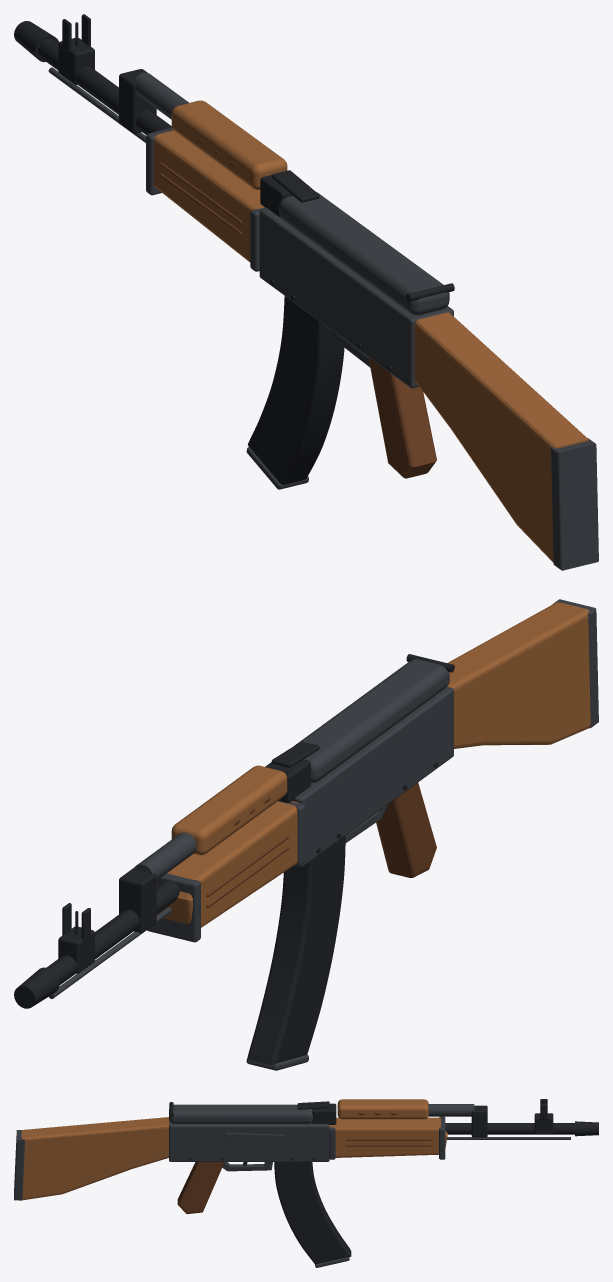
3 views of the same model, one above another, from view 1: azimuth 30°, elevation 25°; view 2: azimuth 150°, elevation 25°; view 3: azimuth 270°, elevation 25° (orthographic). The views are drawn at different scales.
Parts seen in each view (by area): view 1: stock, receiver, magazine, dust_cover, handguard_lower, butt_plate, grip, handguard_upper, barrel, gas_block, gas_tube, front_sight_base (+3 smaller); view 2: stock, magazine, receiver, handguard_lower, dust_cover, handguard_upper, grip, barrel, gas_block, handguard_band, gas_tube, muzzle_brake (+5 smaller); view 3: stock, receiver, magazine, handguard_lower, dust_cover, handguard_upper, grip, barrel, butt_plate, gas_tube, gas_block, handguard_groove (×2) (+7 smaller).
Part boxes in pixels (x1=…): stock: x1=414, y1=312, x2=589, y2=562; receiver: x1=259, y1=208, x2=453, y2=388; magazine: x1=248, y1=296, x2=344, y2=484; dust_cover: x1=279, y1=192, x2=449, y2=315; handguard_lower: x1=153, y1=130, x2=264, y2=262; butt_plate: x1=551, y1=438, x2=598, y2=570; grip: x1=368, y1=357, x2=436, y2=478; handguard_upper: x1=171, y1=100, x2=287, y2=189; barrel: x1=37, y1=38, x2=171, y2=134; gas_block: x1=119, y1=69, x2=156, y2=133; gas_tube: x1=133, y1=72, x2=188, y2=119; front_sight_base: x1=58, y1=38, x2=94, y2=84; stock: x1=447, y1=602, x2=590, y2=748; magazine: x1=247, y1=835, x2=345, y2=1064; receiver: x1=292, y1=686, x2=453, y2=866; handguard_lower: x1=156, y1=801, x2=299, y2=927; dust_cover: x1=294, y1=659, x2=449, y2=782; handguard_upper: x1=171, y1=765, x2=287, y2=855; grip: x1=376, y1=782, x2=436, y2=877; barrel: x1=47, y1=880, x2=179, y2=984; gas_block: x1=119, y1=868, x2=156, y2=932; handguard_band: x1=147, y1=873, x2=200, y2=942; gas_tube: x1=133, y1=832, x2=196, y2=880; muzzle_brake: x1=14, y1=967, x2=59, y2=1008; stock: x1=19, y1=1117, x2=169, y2=1200; receiver: x1=169, y1=1121, x2=329, y2=1161; magazine: x1=274, y1=1162, x2=351, y2=1264; handguard_lower: x1=329, y1=1117, x2=447, y2=1157; dust_cover: x1=169, y1=1104, x2=312, y2=1123; handguard_upper: x1=337, y1=1099, x2=428, y2=1119; grip: x1=177, y1=1162, x2=224, y2=1214; barrel: x1=445, y1=1123, x2=574, y2=1134; butt_plate: x1=14, y1=1130, x2=25, y2=1200; gas_tube: x1=428, y1=1104, x2=474, y2=1116; gas_block: x1=471, y1=1105, x2=487, y2=1137; handguard_groove (×2): x1=345, y1=1138, x2=431, y2=1146.
Bounding box in the file's own units: 0.058 × 0.3352 × 1.09.
